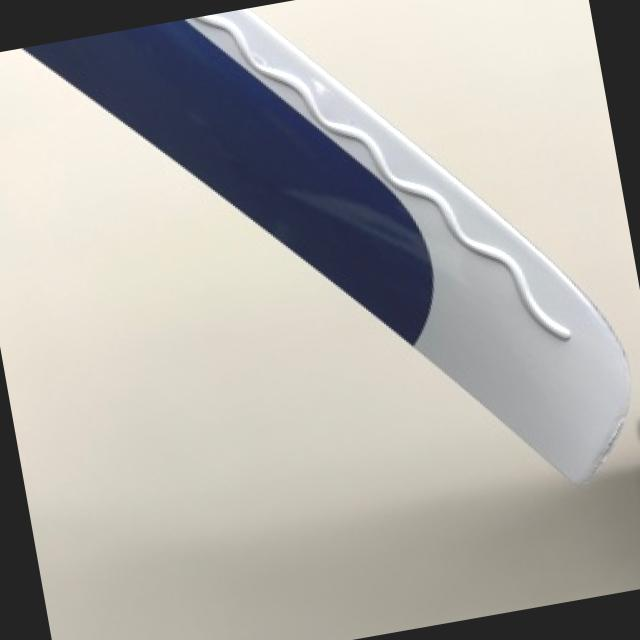healthy: (23, 8, 628, 480)
